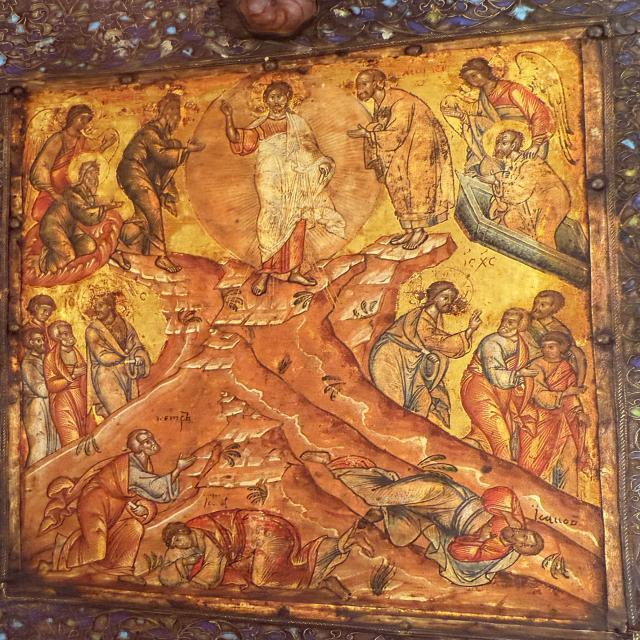angel: (440, 54, 586, 152), (22, 95, 124, 186)
aura: (411, 266, 477, 316), (248, 70, 306, 118), (485, 121, 531, 159), (70, 151, 113, 191)
christ: (346, 268, 484, 417)
christ_pantocrator: (186, 63, 385, 263)
saint: (480, 124, 570, 252), (29, 153, 115, 267)
wing: (519, 54, 590, 164), (24, 109, 54, 175), (85, 127, 125, 163), (440, 99, 482, 129)
